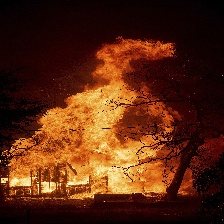fire: (3, 33, 189, 205)
